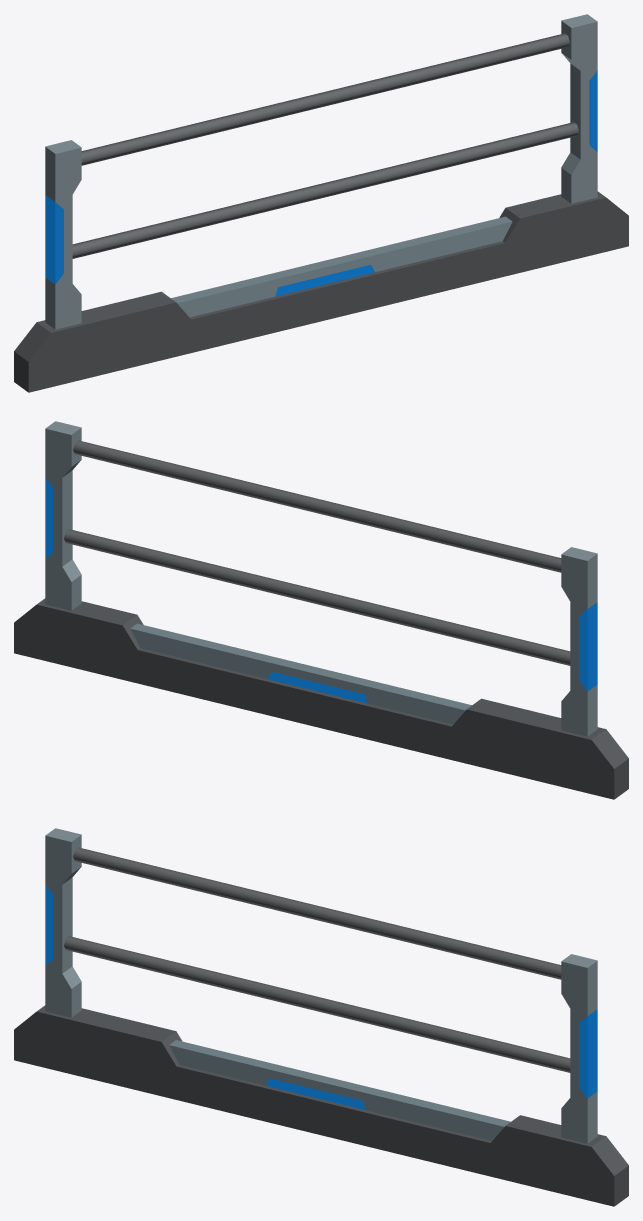
File: Fence_type_B_007.glb
3 views of the same model, one above another, from view 1: azimuth 30°, elevation 25°; view 2: azimuth 150°, elevation 25°; view 3: azimuth 330°, elevation 25° (orthographic).
Visible parts, largest first — view 1: Fence_type_B_007; view 2: Fence_type_B_007; view 3: Fence_type_B_007.
Part boxes in pixels (left/top/right/bottom): Fence_type_B_007: left=14, top=14, right=628, bottom=392; Fence_type_B_007: left=14, top=421, right=628, bottom=799; Fence_type_B_007: left=14, top=828, right=628, bottom=1206.
Size of the model in its own units: 3.89 by 1.42 by 0.1653.
2 materials, 2 textured.
